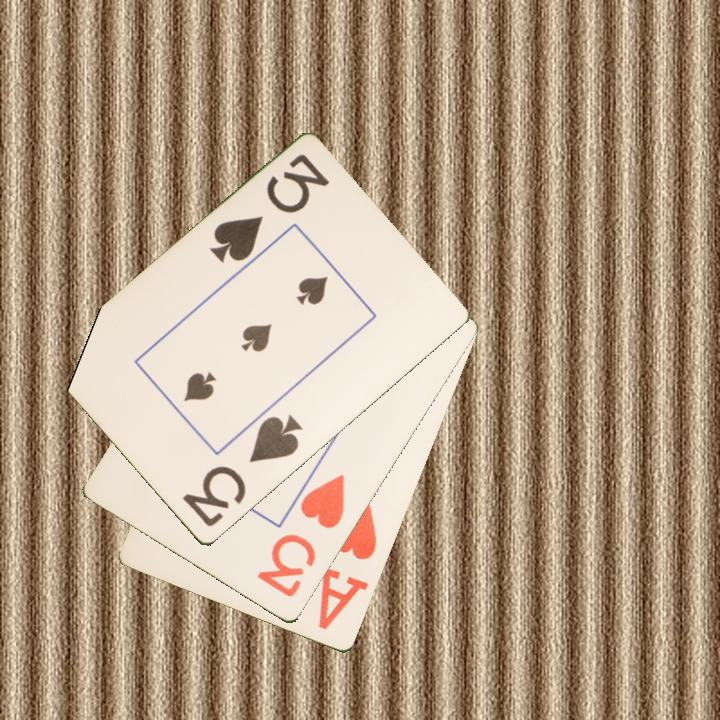3h: (253, 471, 348, 601)
3s: (178, 411, 306, 531), (206, 151, 333, 267)
Ah: (315, 500, 380, 633)
